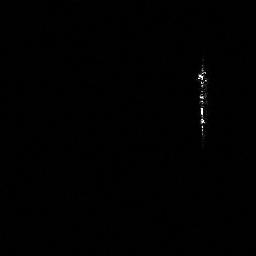ship: (192, 58, 211, 138)
